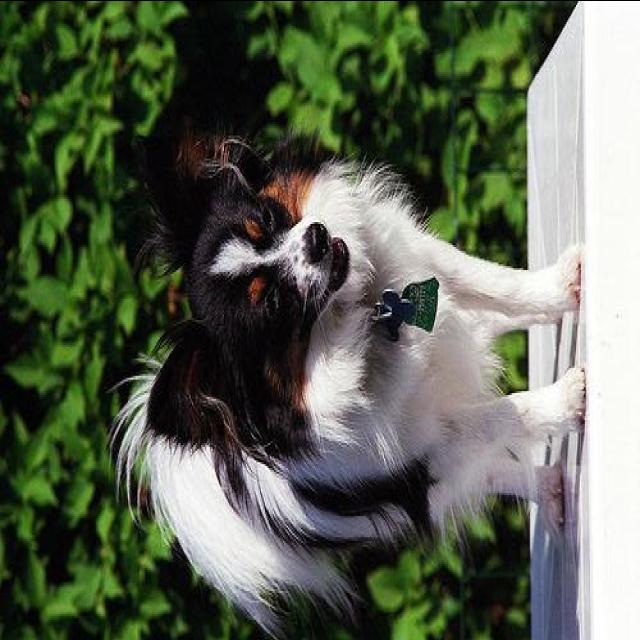papillon: (111, 121, 586, 627)
